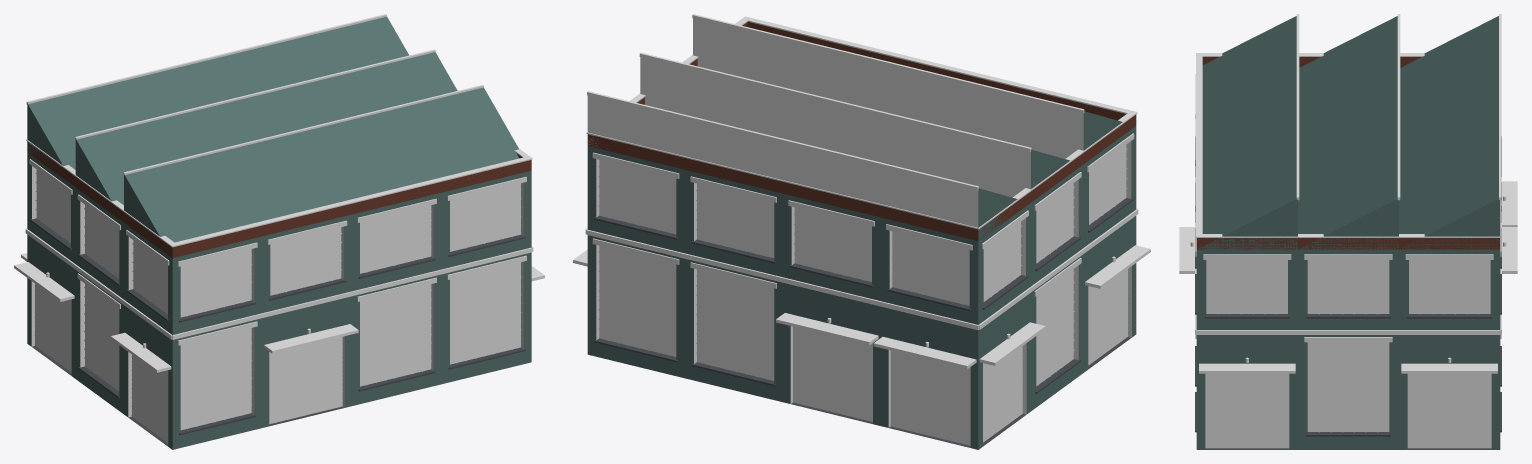
The model's file is LB_FR_Shed_A.fbx.
The picture shows the model from 3 angles, left to right: view 1: azimuth 30°, elevation 25°; view 2: azimuth 150°, elevation 25°; view 3: azimuth 270°, elevation 25°; orthographic projection. The views are drawn at different scales.
Parts seen in each view (by area): view 1: LB_FR_Shed_A_LOD0; view 2: LB_FR_Shed_A_LOD0; view 3: LB_FR_Shed_A_LOD0.
Part boxes in pixels (bbox=[...]): LB_FR_Shed_A_LOD0: bbox=[14, 14, 544, 449]; LB_FR_Shed_A_LOD0: bbox=[573, 14, 1150, 449]; LB_FR_Shed_A_LOD0: bbox=[1179, 14, 1517, 449].
Size of what is drawn, in the model's own units: 21.6 by 12.86 by 15.6.
